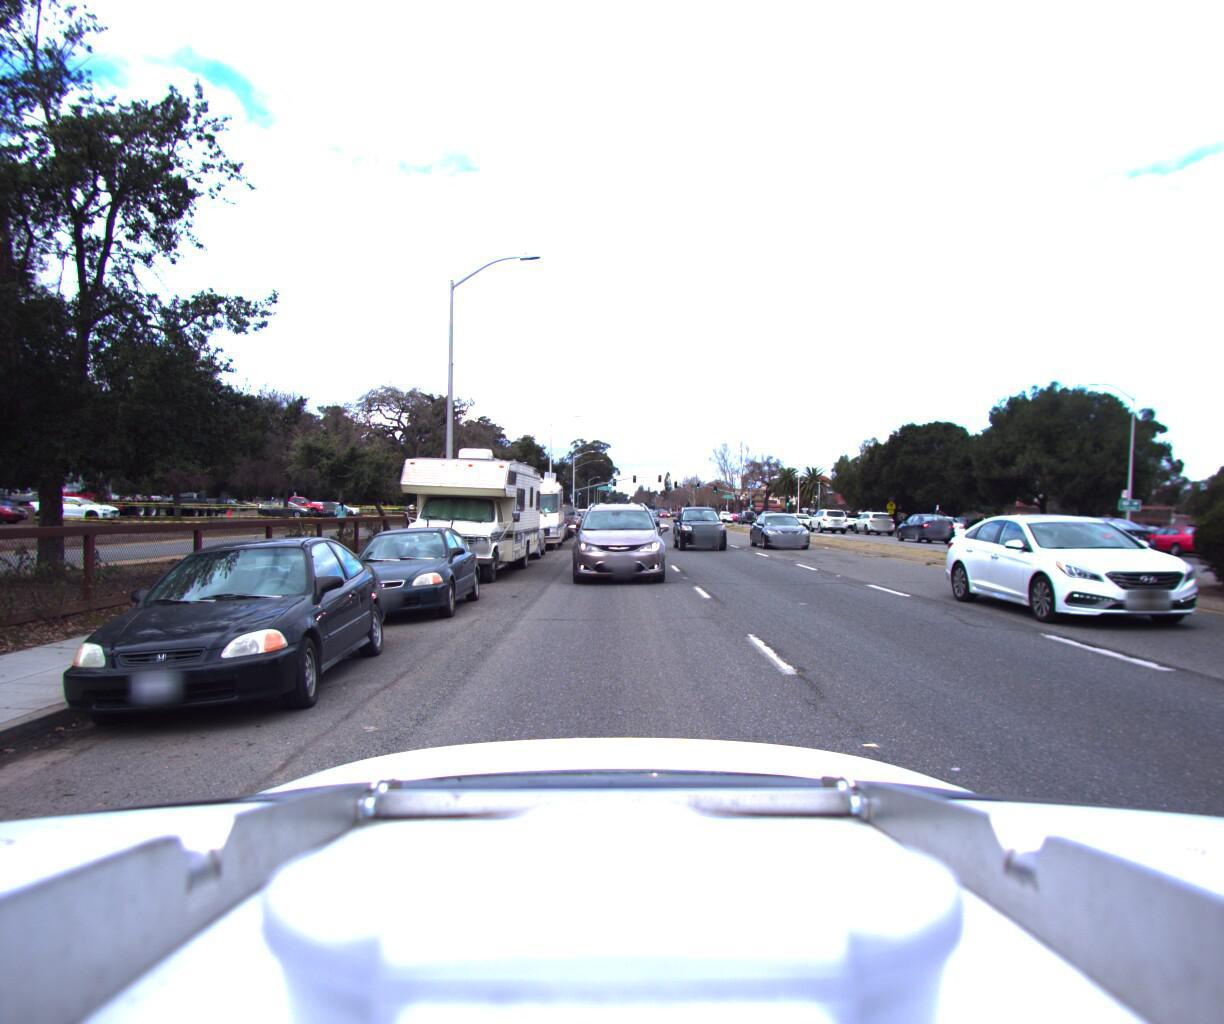car: (10, 519, 399, 760), (968, 503, 1224, 649), (315, 509, 490, 634), (569, 492, 662, 587), (1124, 517, 1224, 555), (475, 509, 545, 557), (674, 500, 734, 550), (752, 513, 821, 554), (995, 508, 1072, 544), (892, 509, 954, 540), (936, 511, 984, 536), (545, 501, 580, 532), (806, 505, 847, 530), (849, 508, 893, 531), (831, 510, 861, 529)
other_vehicle: (379, 429, 546, 587), (490, 463, 565, 551)
